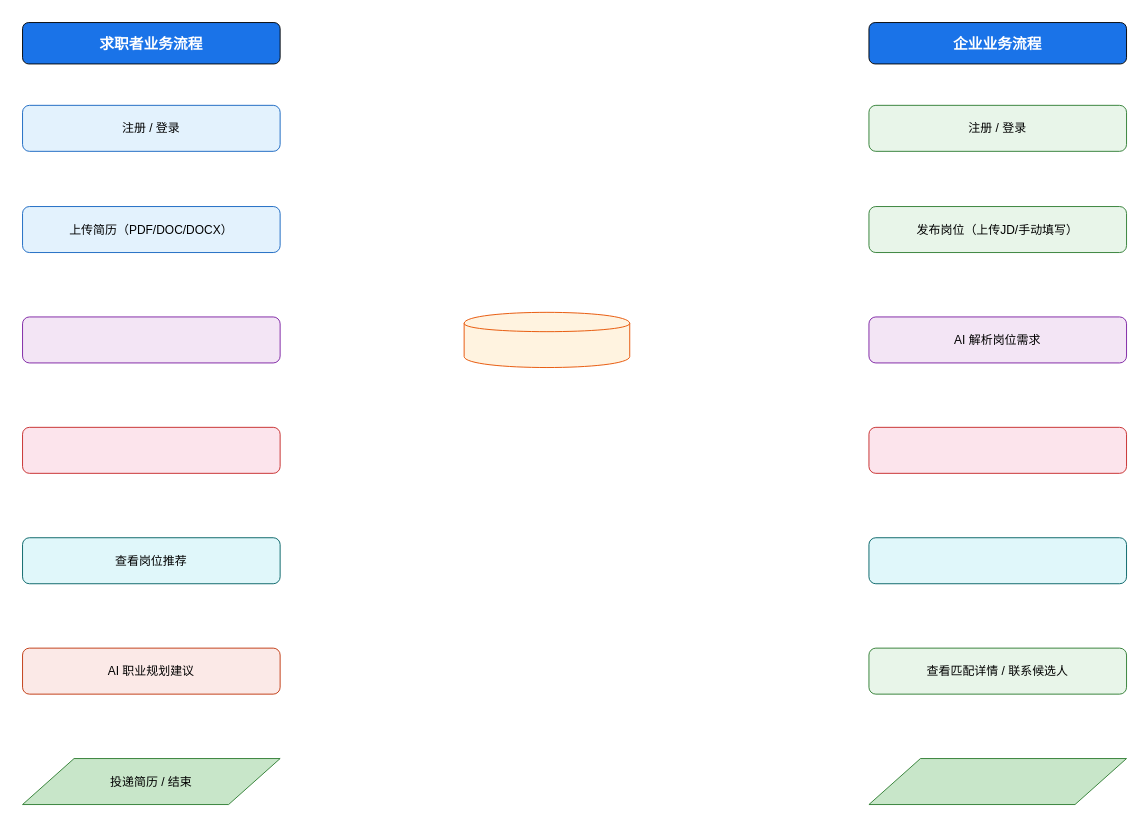
This 1143x821 diagram has some shape labels left out. Each missing label, with the centre of its shape:
"AI 微服务 （FastAPI + LLM）" belongs at point (546, 339).
"AI 解析简历" belongs at point (151, 339).
"查看人才推荐" belongs at point (997, 560).
"生成个人能力图谱" belongs at point (151, 449).
"生成岗位能力图谱" belongs at point (997, 449).
"结束" belongs at point (997, 781).
